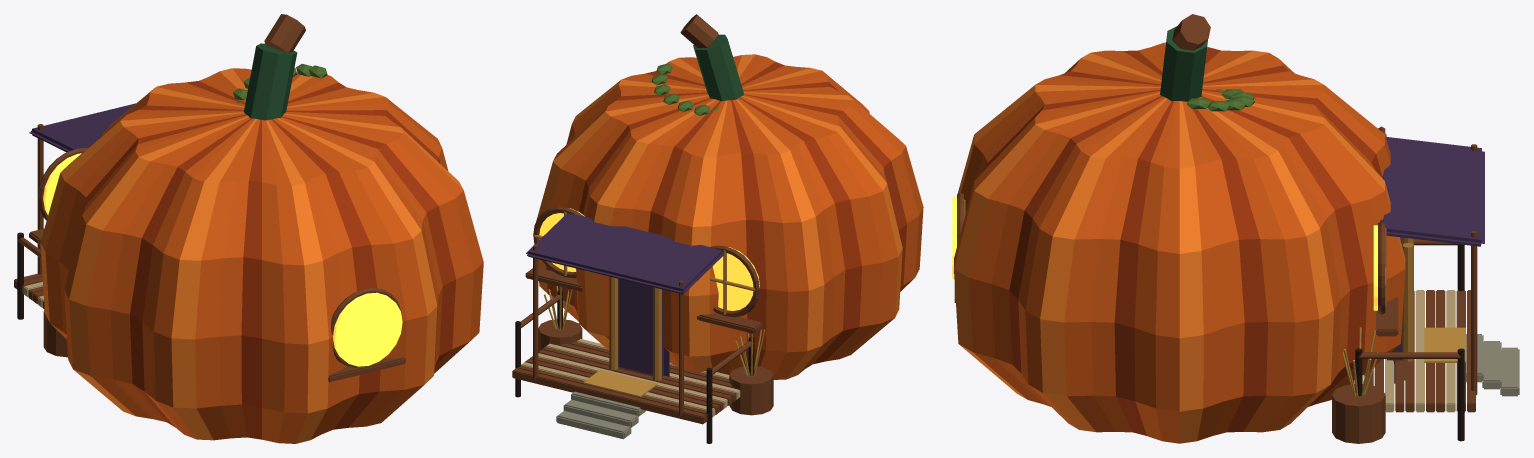
Rendered from pumpkin_house_0.glb.
3 views of the same model, side by side, from view 1: azimuth 30°, elevation 25°; view 2: azimuth 150°, elevation 25°; view 3: azimuth 270°, elevation 25° (orthographic). The views are drawn at different scales.
Parts seen in each view (by area): view 1: Lantern Hollow cottageMesh; view 2: Lantern Hollow cottageMesh; view 3: Lantern Hollow cottageMesh.
Boxes of the visible parts, box(x1,y1,x2,y2) form: Lantern Hollow cottageMesh: box(14, 14, 483, 443); Lantern Hollow cottageMesh: box(512, 14, 923, 443); Lantern Hollow cottageMesh: box(952, 14, 1519, 443).
Bounding box in the file's own units: 7.42 × 6.64 × 8.86.
